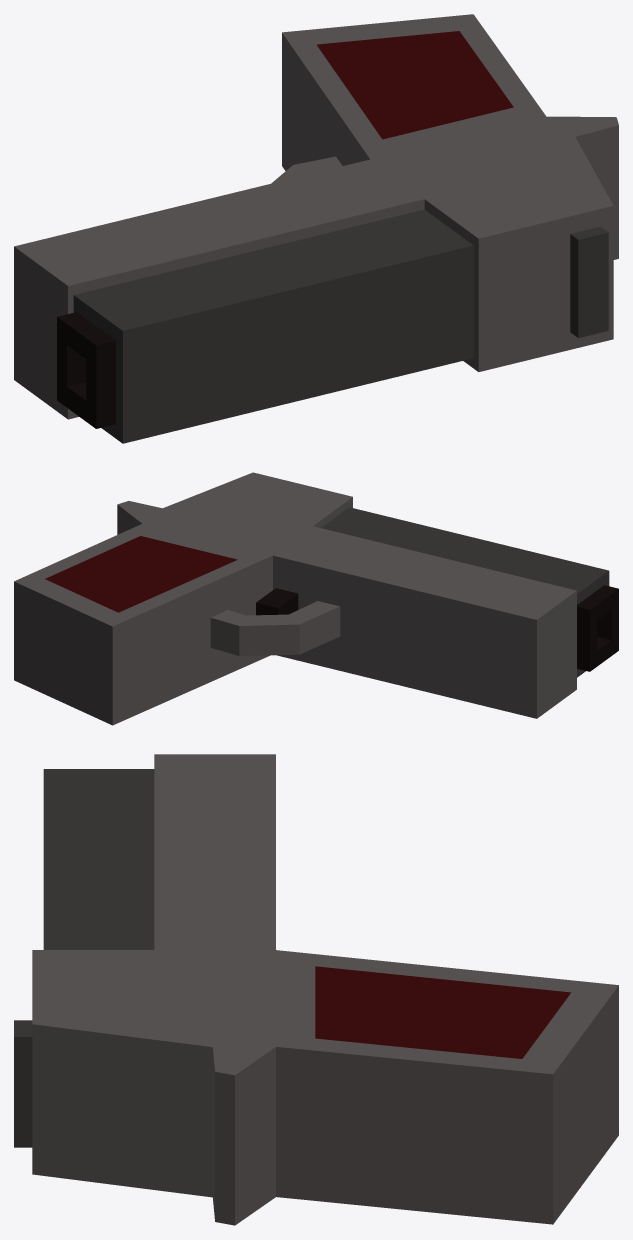
Rendered from Gun 01.FBX.
3 views of the same model, one above another, from view 1: azimuth 30°, elevation 25°; view 2: azimuth 150°, elevation 25°; view 3: azimuth 270°, elevation 25° (orthographic). The views are drawn at different scales.
Visible parts, largest first — view 1: Gun 01; view 2: Gun 01; view 3: Gun 01.
Part boxes in pixels (x1=…): Gun 01: x1=14, y1=14, x2=618, y2=443; Gun 01: x1=14, y1=472, x2=618, y2=725; Gun 01: x1=14, y1=754, x2=618, y2=1225.
Size of the model in its own units: 26.37 by 20.5 by 5.62.
Materials: 1 (1 with a texture image).
